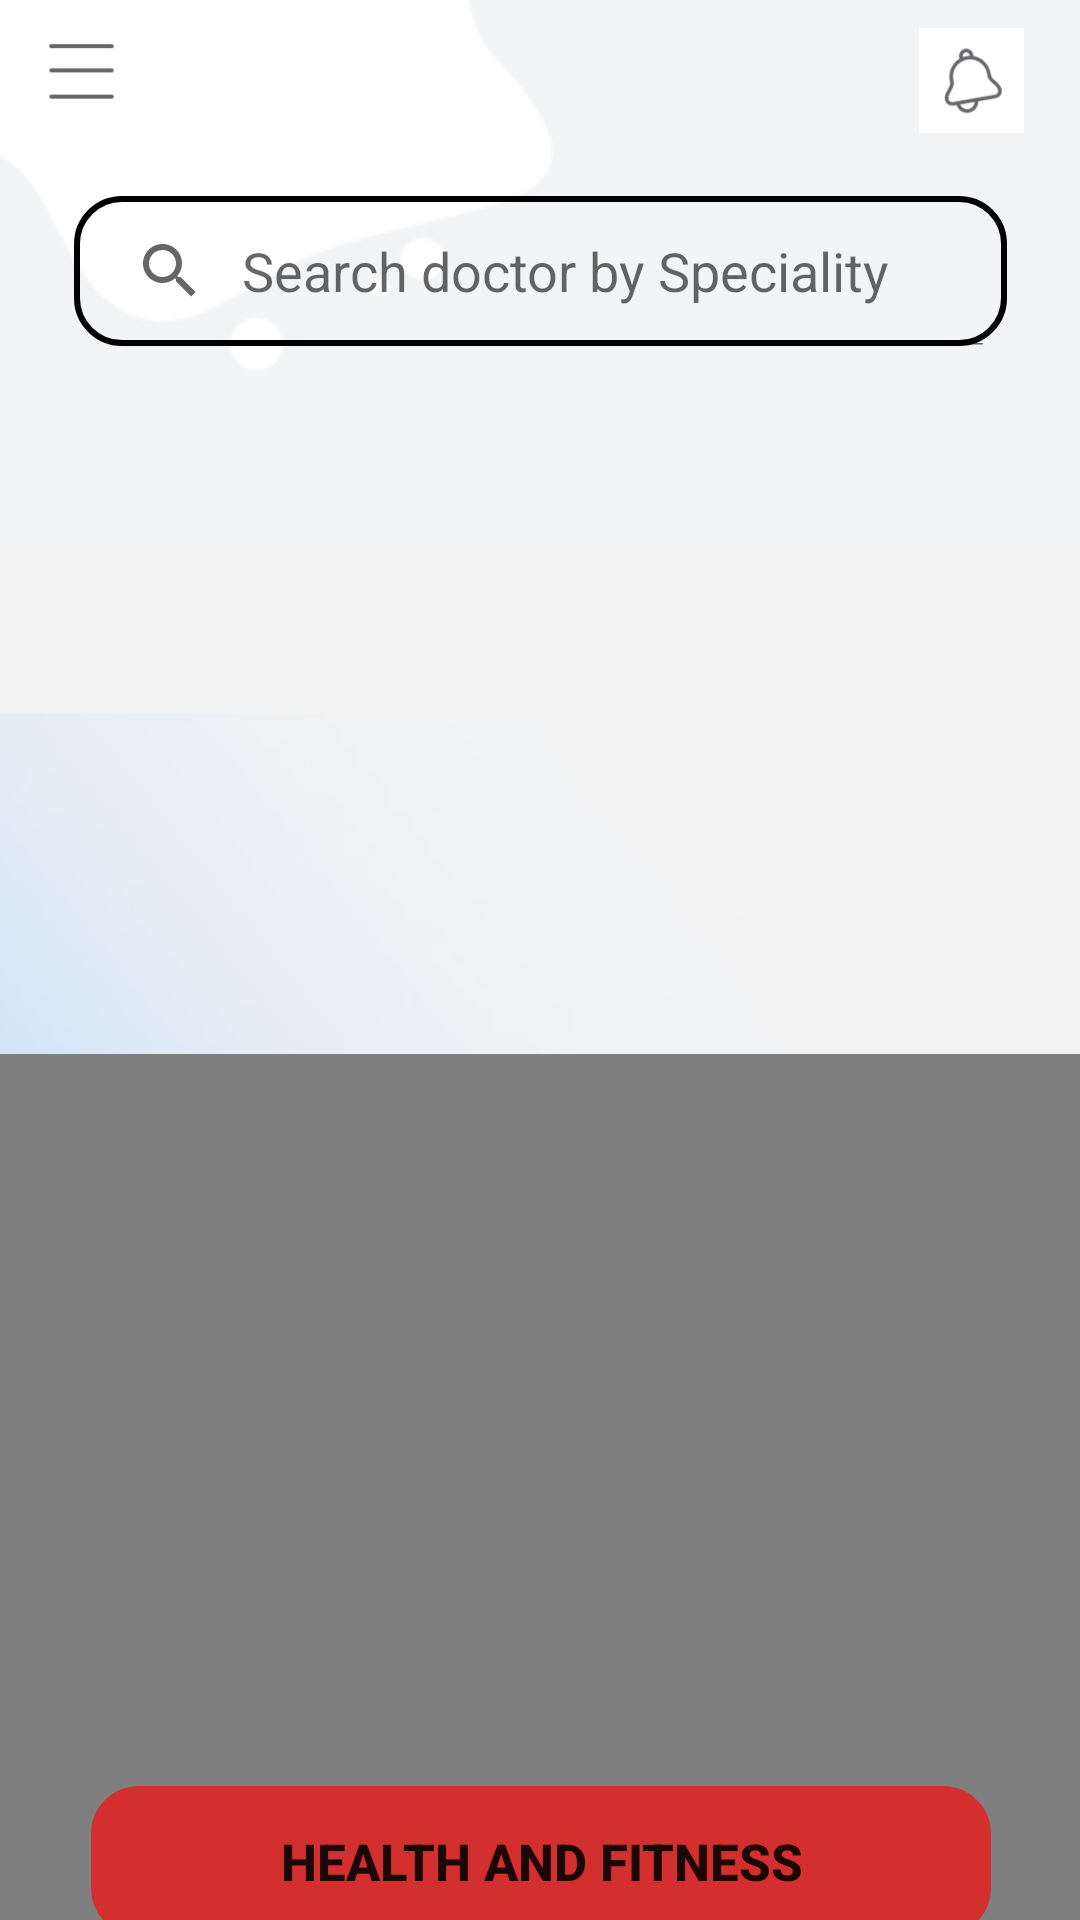

Point at icon controls on the screen. Image size 1080px×1920px, points as (x,y).
bell: (971,80)
menu: (81,71)
